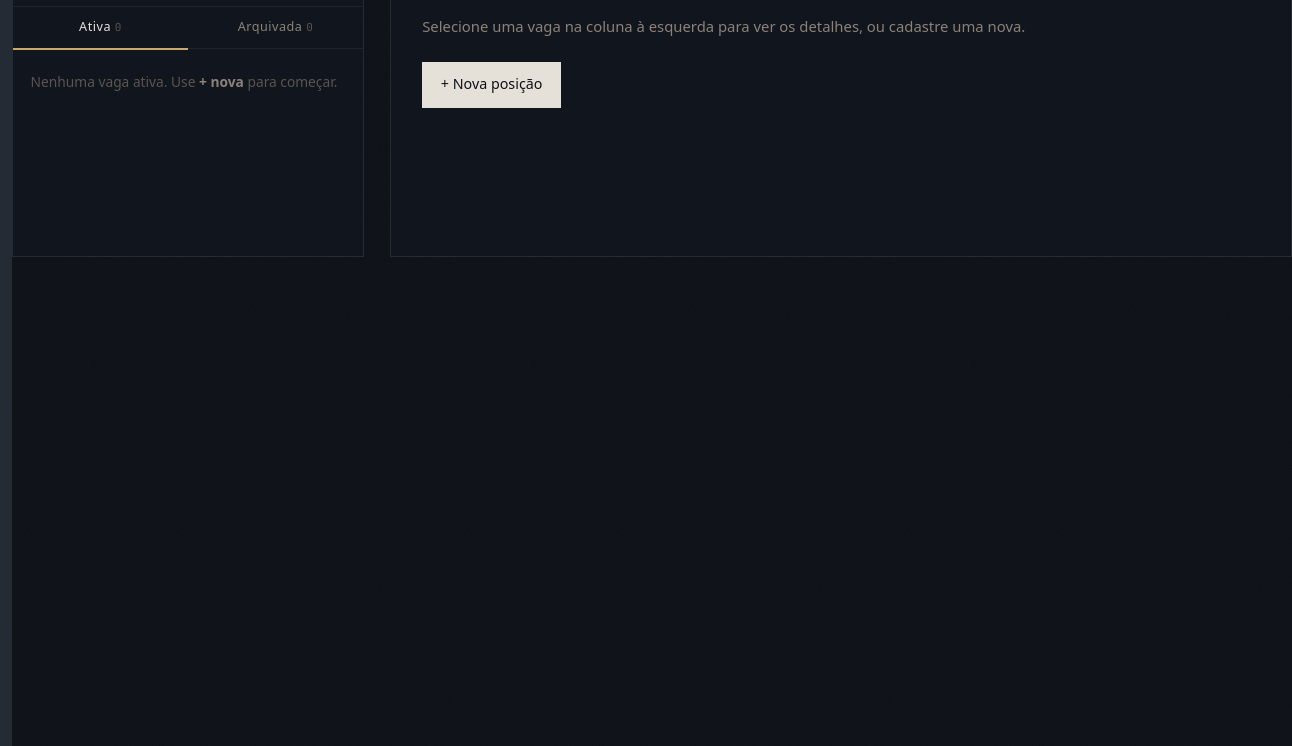
fusão Technical Stack → Tecnologias › não renderiza mais o campo Technical Stack no form
What coordinates should you click on to do the following:
click the button "+ Nova posição"
I would click on:
 (492, 85)
Its box is [422,62,561,108].
(page scrolled)
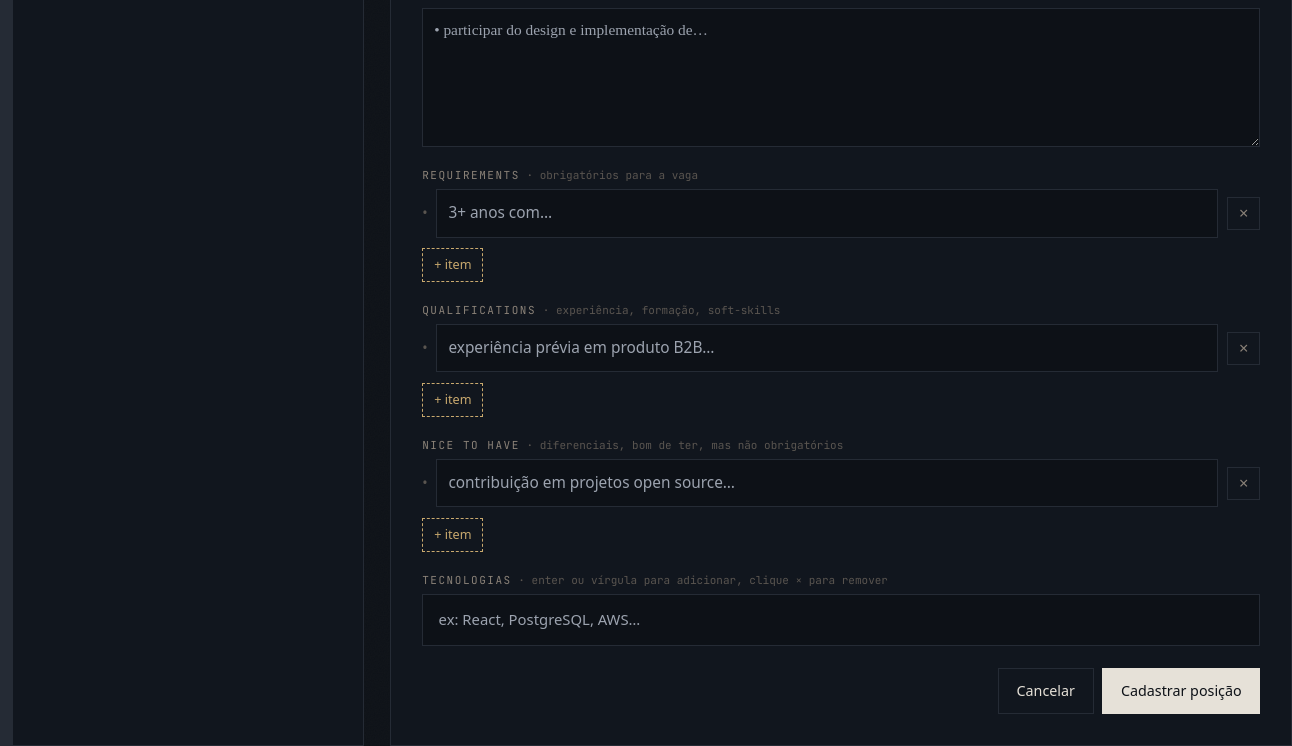
Result: the text "Tecnologias" is shown at [422,573,512,587]
